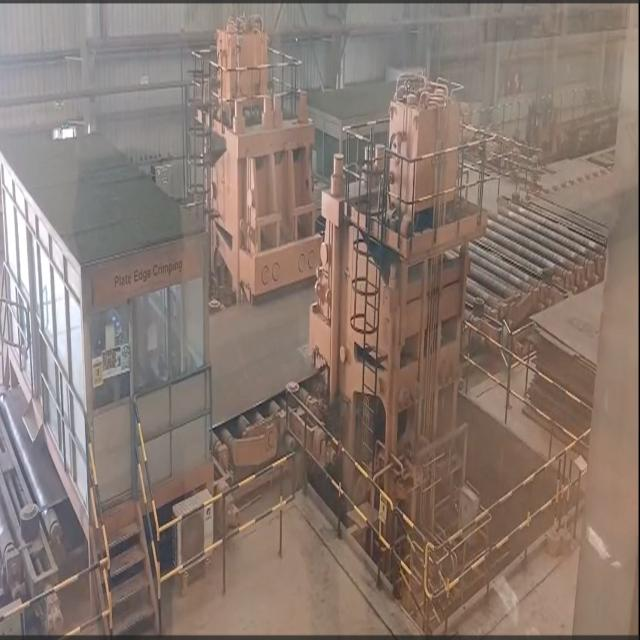warningzone: (492, 188, 608, 306)
